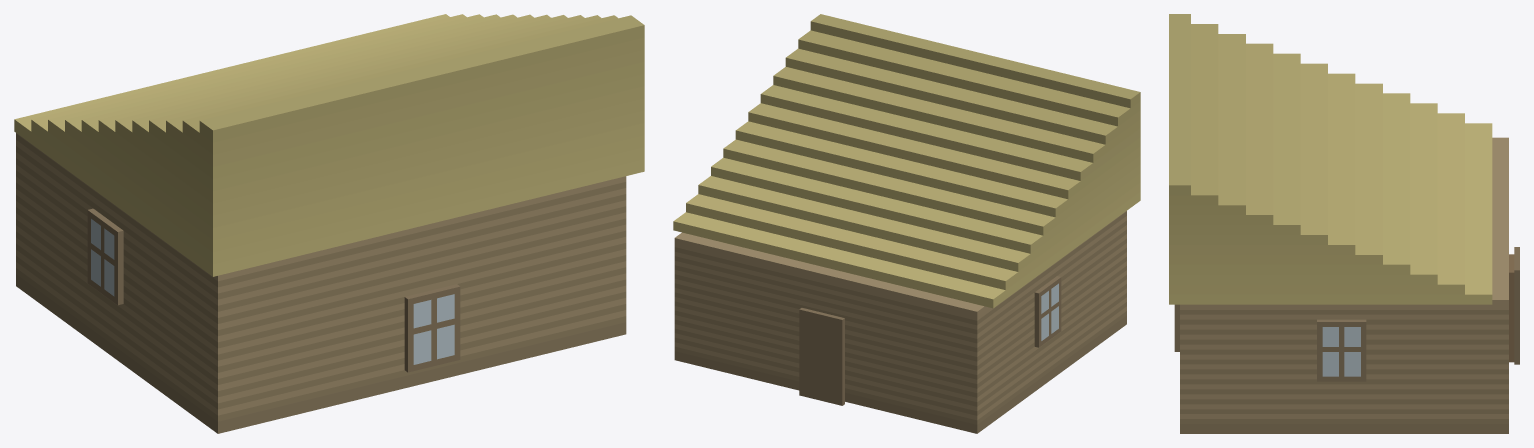
The model's file is campamento_hostil_02.glb.
3 renders of one model, left to right at view 1: azimuth 30°, elevation 25°; view 2: azimuth 150°, elevation 25°; view 3: azimuth 270°, elevation 25°, orthographic. The views are drawn at different scales.
Parts seen in each view (by area): view 1: campamento_hostil_02; view 2: campamento_hostil_02; view 3: campamento_hostil_02.
Part boxes in pixels (x1=…): campamento_hostil_02: x1=14, y1=14, x2=644, y2=433; campamento_hostil_02: x1=673, y1=14, x2=1140, y2=433; campamento_hostil_02: x1=1169, y1=14, x2=1519, y2=433.
Size of the model in its own units: 7.4 by 5.1 by 6.4.
